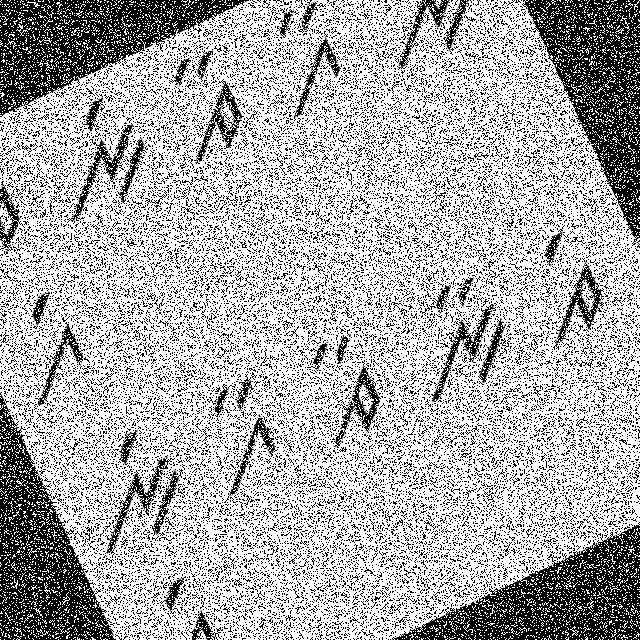gan: (237, 0, 359, 127), (186, 368, 302, 498)
gang: (0, 279, 109, 423), (122, 561, 241, 639)
ngan: (391, 264, 530, 411), (350, 0, 494, 75)
ngang: (57, 404, 205, 560), (25, 82, 171, 234)
tan: (280, 321, 398, 453), (146, 37, 264, 168)
tang: (506, 212, 629, 354), (0, 143, 37, 274)
